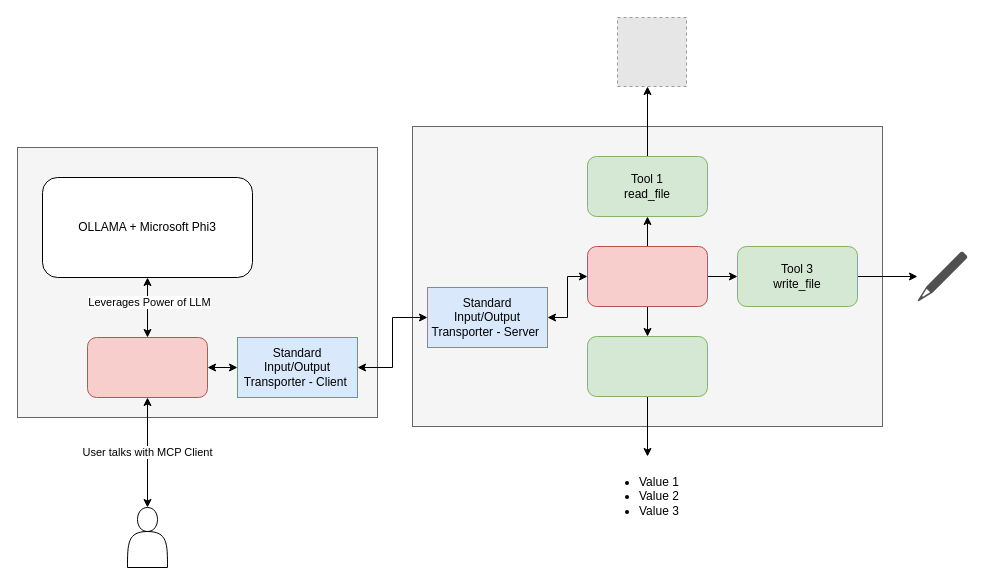
This 985x585 diagram has some shape labels left out. Grey dashed boxes stand in for pictures. The centre of each missing label's shape, as x and y in pixels:
"MCP - Client" goes at point 147,367.
"MCP - Server" goes at point 647,276.
"Tool 2 list_directory" goes at point 647,366.
